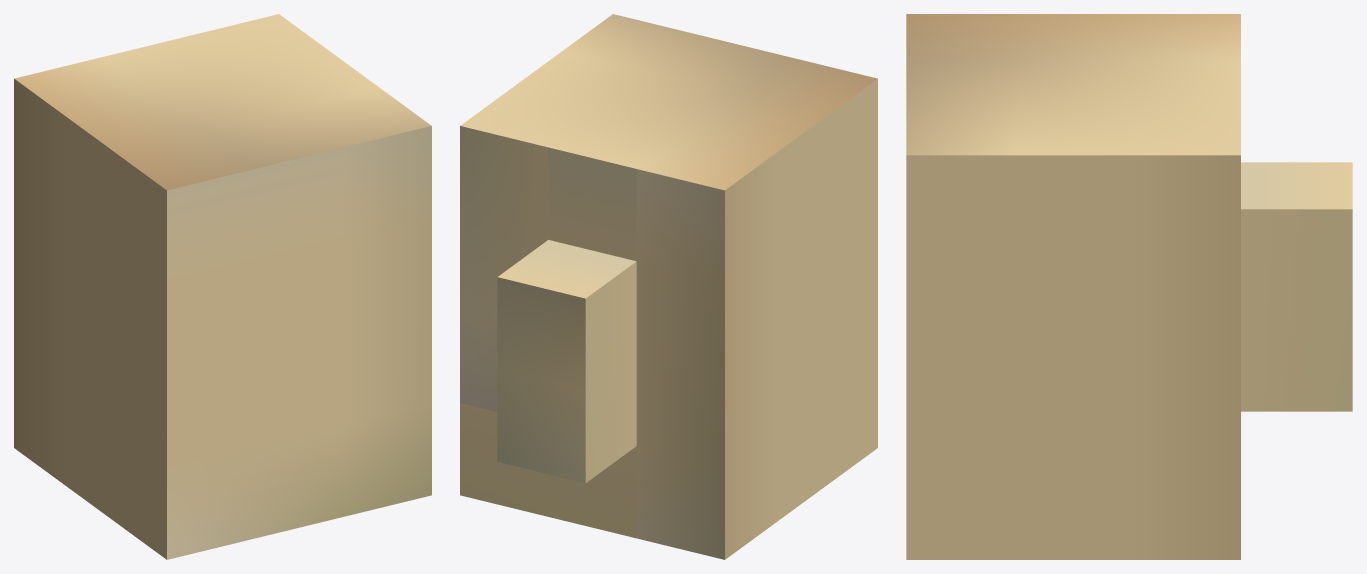
The model's file is MugCream_00.fbx.
3 views of the same model, side by side, from view 1: azimuth 30°, elevation 25°; view 2: azimuth 150°, elevation 25°; view 3: azimuth 270°, elevation 25° (orthographic). The views are drawn at different scales.
Visible parts, largest first — view 1: MugCream_00; view 2: MugCream_00; view 3: MugCream_00.
Part boxes in pixels (x1,y1,x2,y2): MugCream_00: (14, 14, 431, 559); MugCream_00: (460, 14, 877, 559); MugCream_00: (906, 14, 1352, 559).
Size of the model in its own units: 15 by 20 by 20.
Materials: 1 (1 with a texture image).
